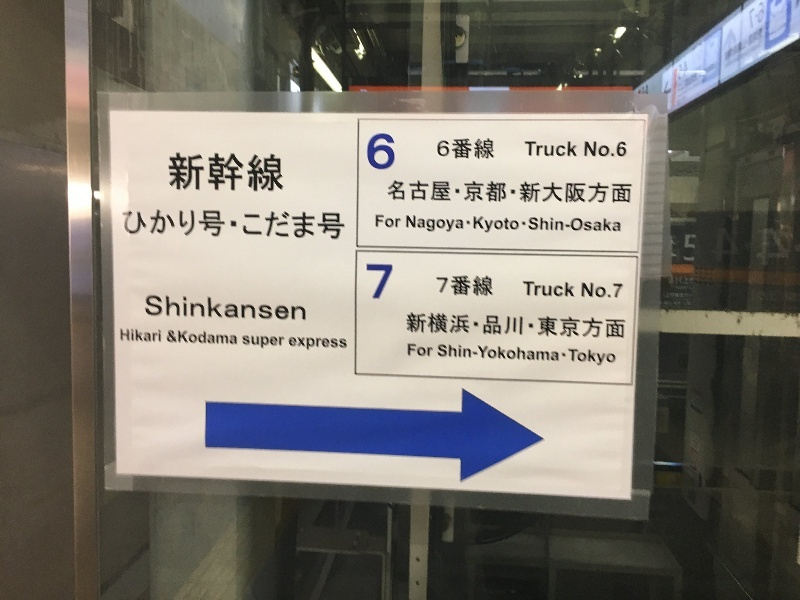text: (177, 150, 192, 197), (193, 150, 208, 197), (209, 150, 224, 197), (225, 150, 240, 197), (241, 150, 256, 197), (257, 150, 272, 197), (769, 226, 784, 268), (369, 130, 384, 171), (369, 262, 384, 303), (721, 228, 737, 264), (385, 130, 399, 171), (273, 150, 285, 197), (129, 209, 144, 244), (145, 209, 160, 244), (161, 209, 176, 244), (177, 209, 192, 244), (193, 209, 208, 244), (209, 209, 224, 244), (225, 209, 240, 244), (241, 209, 256, 244), (257, 209, 272, 244), (273, 209, 288, 244), (289, 209, 304, 244), (305, 209, 320, 244), (321, 209, 336, 244), (165, 150, 176, 197), (757, 226, 768, 268), (145, 295, 160, 324), (161, 295, 176, 324), (177, 295, 192, 324), (193, 295, 208, 324), (209, 295, 224, 324), (225, 295, 240, 324), (241, 295, 256, 324), (257, 295, 272, 324), (273, 295, 288, 324), (289, 295, 304, 324), (785, 226, 795, 268), (385, 262, 395, 303), (401, 179, 416, 206), (417, 179, 432, 206), (433, 179, 448, 206), (449, 179, 464, 206), (465, 179, 480, 206), (481, 179, 496, 206), (497, 179, 512, 206), (513, 179, 528, 206), (529, 179, 544, 206), (545, 179, 560, 206), (561, 179, 576, 206), (577, 179, 592, 206), (593, 179, 608, 206), (609, 179, 624, 206), (386, 179, 400, 206), (417, 312, 432, 337), (433, 312, 448, 337), (449, 312, 464, 337), (449, 343, 464, 367), (465, 343, 480, 367), (481, 343, 496, 367), (497, 343, 512, 367), (513, 343, 528, 367), (529, 343, 544, 367), (545, 343, 560, 367), (561, 343, 576, 367), (577, 343, 592, 367), (593, 343, 608, 367), (118, 209, 128, 244), (449, 275, 464, 298), (465, 275, 480, 298), (545, 316, 560, 339), (561, 316, 576, 339), (577, 316, 592, 339), (593, 316, 608, 339), (609, 316, 624, 339), (689, 232, 700, 263), (449, 139, 464, 161), (465, 139, 480, 161), (497, 315, 512, 337), (481, 275, 495, 298), (434, 139, 448, 161), (481, 139, 495, 161), (529, 280, 544, 300), (545, 280, 560, 300), (561, 280, 576, 300), (609, 282, 625, 300), (436, 343, 448, 367), (449, 215, 465, 233), (483, 315, 496, 337), (593, 140, 608, 159), (609, 140, 624, 159), (337, 209, 345, 244), (436, 275, 448, 298), (177, 329, 192, 347), (193, 329, 208, 347), (209, 329, 224, 347), (529, 141, 544, 159), (545, 141, 560, 159), (561, 141, 576, 159), (593, 282, 608, 300), (417, 215, 432, 233), (433, 215, 448, 233), (481, 216, 496, 234), (497, 216, 512, 234), (385, 213, 401, 229), (225, 329, 239, 347), (406, 312, 416, 337), (625, 179, 634, 206), (513, 315, 524, 337), (129, 328, 144, 344), (145, 328, 160, 344), (257, 335, 272, 351), (417, 343, 432, 359), (529, 217, 544, 233), (545, 217, 560, 233), (561, 217, 576, 233), (577, 217, 592, 233), (593, 217, 608, 233), (242, 335, 256, 351), (289, 336, 304, 350), (305, 336, 320, 350), (321, 336, 336, 350), (581, 282, 592, 300), (273, 335, 285, 351), (609, 343, 617, 367), (609, 217, 621, 233), (406, 215, 416, 233), (583, 140, 592, 159), (364, 262, 368, 303), (167, 329, 176, 347), (537, 316, 544, 339), (407, 343, 416, 359), (716, 228, 720, 264), (337, 336, 347, 350), (521, 280, 528, 300), (120, 328, 128, 344), (376, 213, 384, 229), (473, 216, 480, 234), (513, 216, 520, 234), (465, 312, 470, 337), (365, 130, 368, 171), (685, 232, 688, 263), (524, 141, 528, 159), (305, 295, 307, 324), (625, 140, 628, 159), (577, 141, 579, 159), (161, 328, 163, 344), (433, 343, 435, 359), (625, 316, 626, 339)
